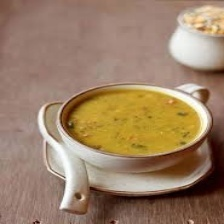dal: (59, 88, 204, 157)
